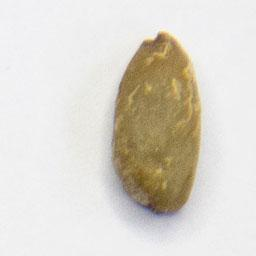defect: (108, 29, 204, 218)
